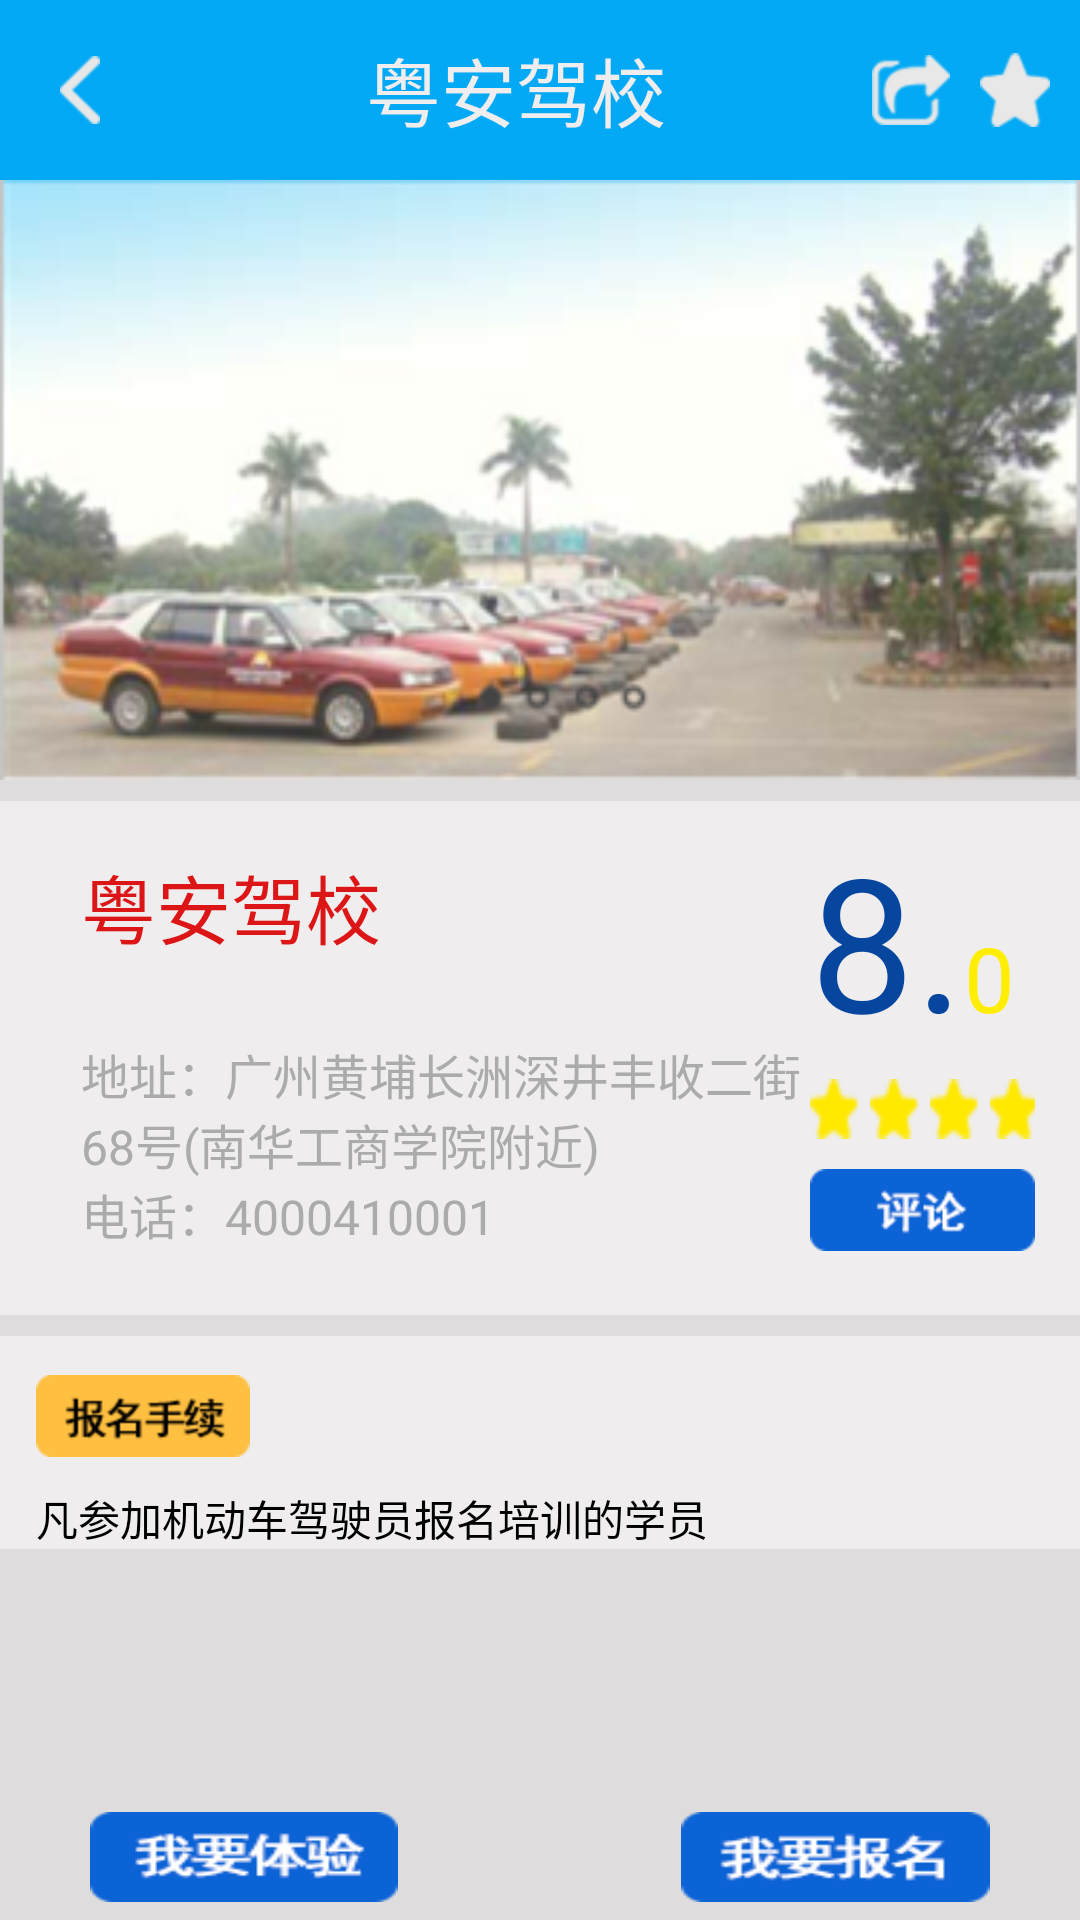

Icons on this 1080x1920 Android screen, each with its box as {"left": x1, "top": y1, "right": x2, "bottom": y2}:
arrow left: {"left": 60, "top": 56, "right": 100, "bottom": 124}
share: {"left": 872, "top": 55, "right": 950, "bottom": 125}
star: {"left": 980, "top": 53, "right": 1050, "bottom": 127}
